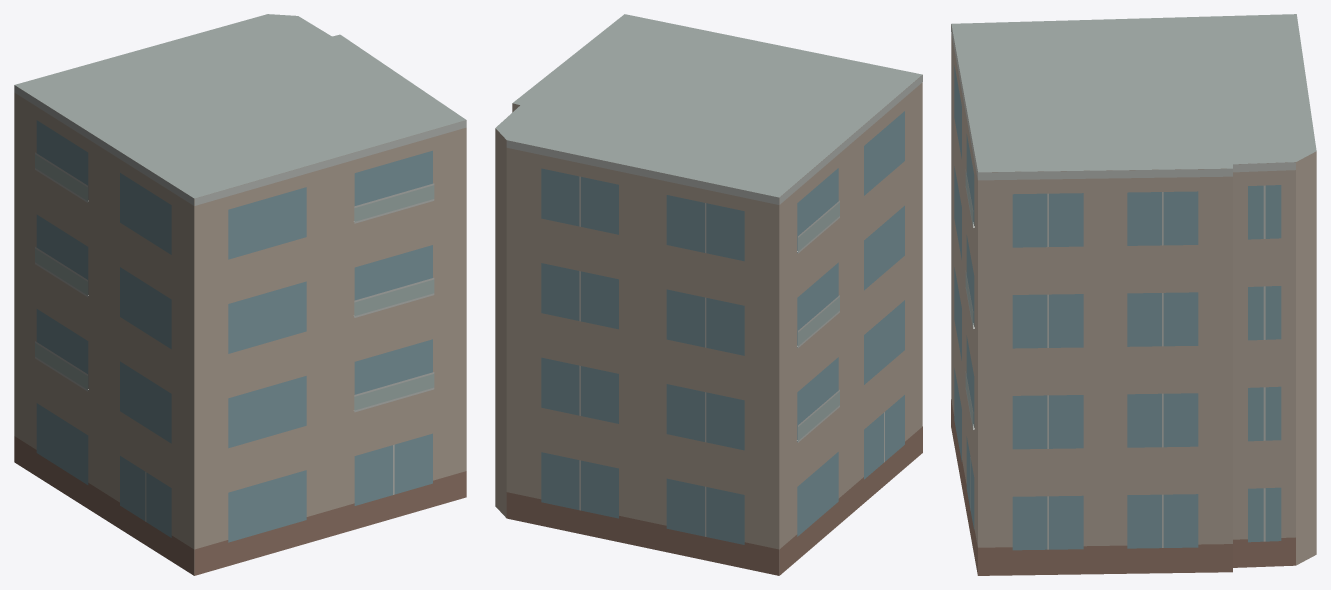
Rendered from survey-upis-32935577.glb.
3 views of the same model, side by side, from view 1: azimuth 30°, elevation 25°; view 2: azimuth 150°, elevation 25°; view 3: azimuth 270°, elevation 25° (orthographic). The views are drawn at different scales.
Parts seen in each view (by area): view 1: survey-upis-32935577.tmp; view 2: survey-upis-32935577.tmp; view 3: survey-upis-32935577.tmp.
Part boxes in pixels (x1,y1,x2,y2): survey-upis-32935577.tmp: (14,14,466,575); survey-upis-32935577.tmp: (495,14,922,575); survey-upis-32935577.tmp: (951,14,1316,575).
Size of the model in its own units: 10.27 by 12.2 by 10.02.
